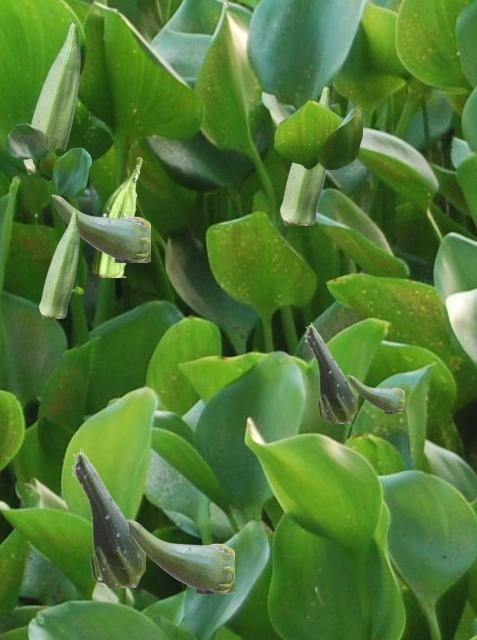okra: (71, 448, 144, 586), (23, 22, 79, 173), (126, 519, 233, 592), (280, 86, 331, 224), (51, 194, 149, 261), (92, 157, 141, 276), (304, 322, 356, 422), (39, 211, 78, 317), (348, 375, 403, 412)
